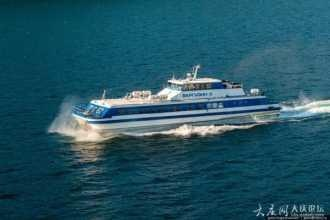otherboat: (60, 67, 280, 132)
